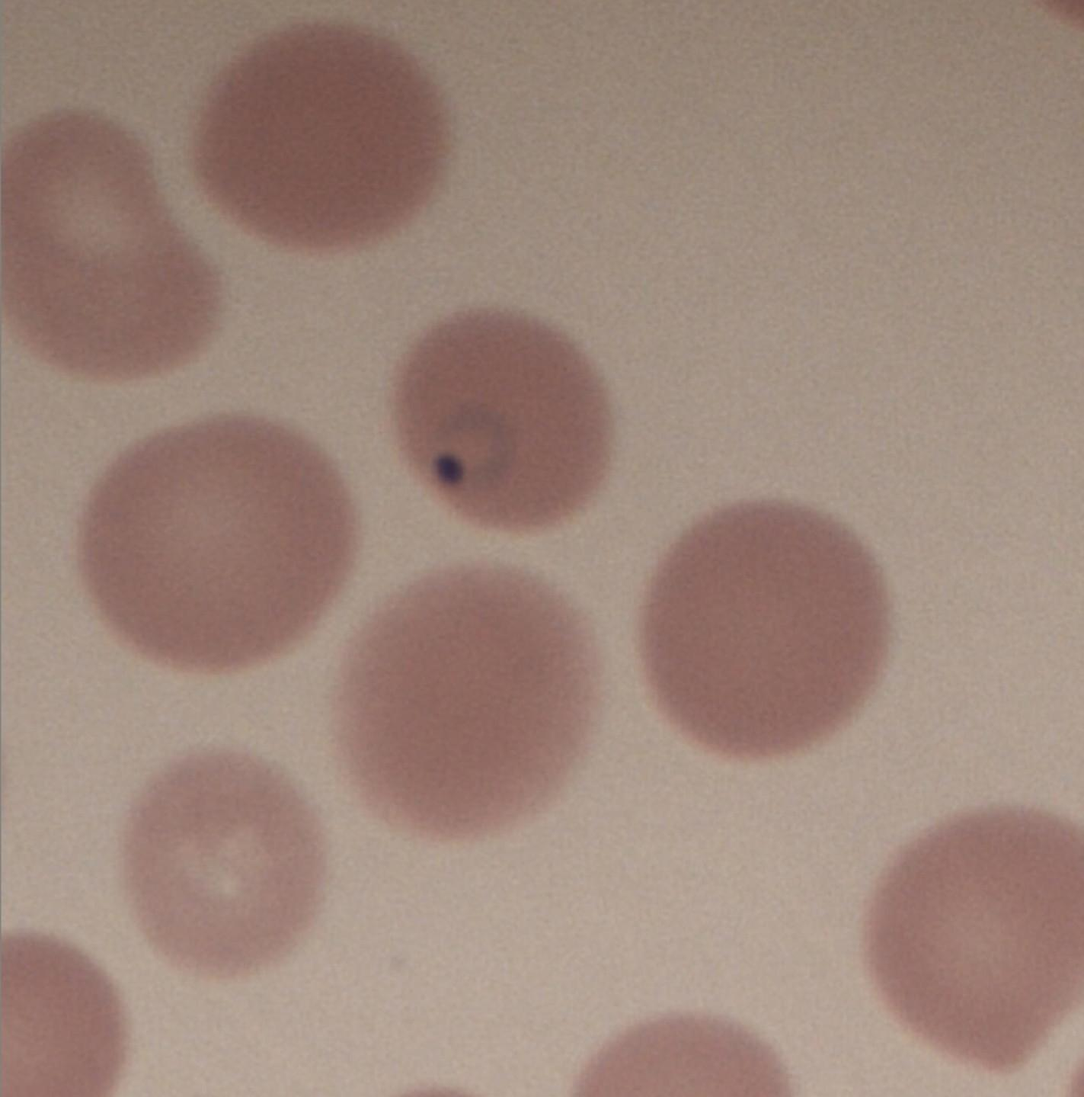Infected: (394, 311, 610, 528)
Uninfected: (340, 560, 595, 843), (89, 418, 360, 667), (0, 113, 228, 384), (866, 799, 1084, 1079), (645, 504, 886, 755), (203, 29, 441, 248), (124, 756, 341, 984)
